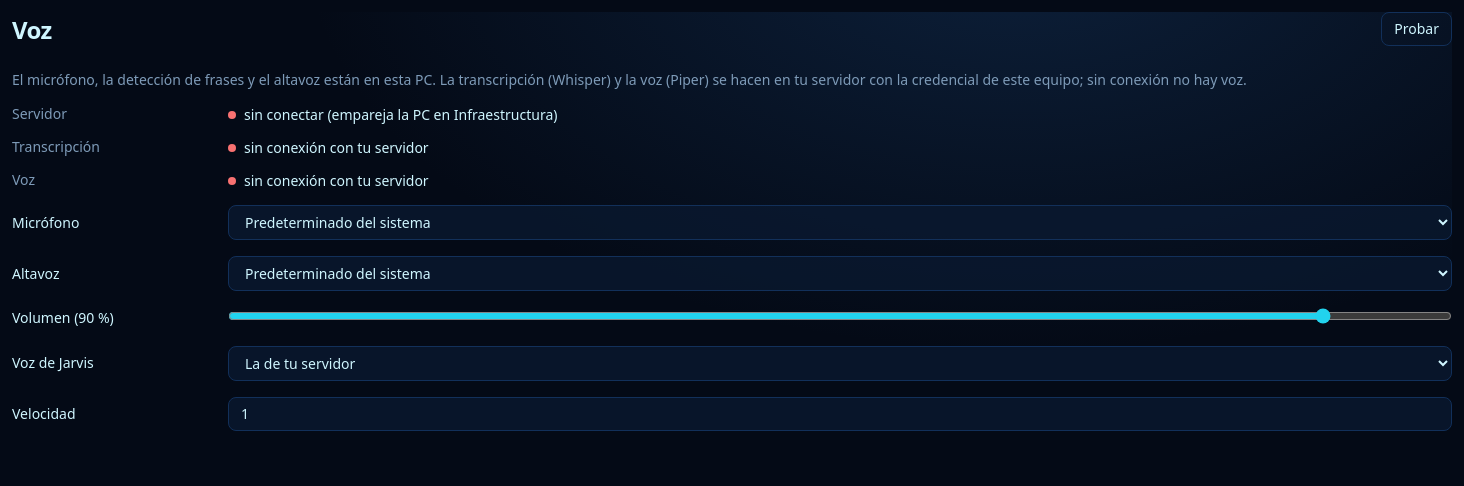
Test case: Configuración → Voz › «Probar» explica qué falla en el servidor
Expected: the text "sin conectar (empareja la PC en Infraestructura)" is shown, [228,105,558,124]
Click the button "Probar".
click(1417, 29)  # box [1381,12,1452,46]
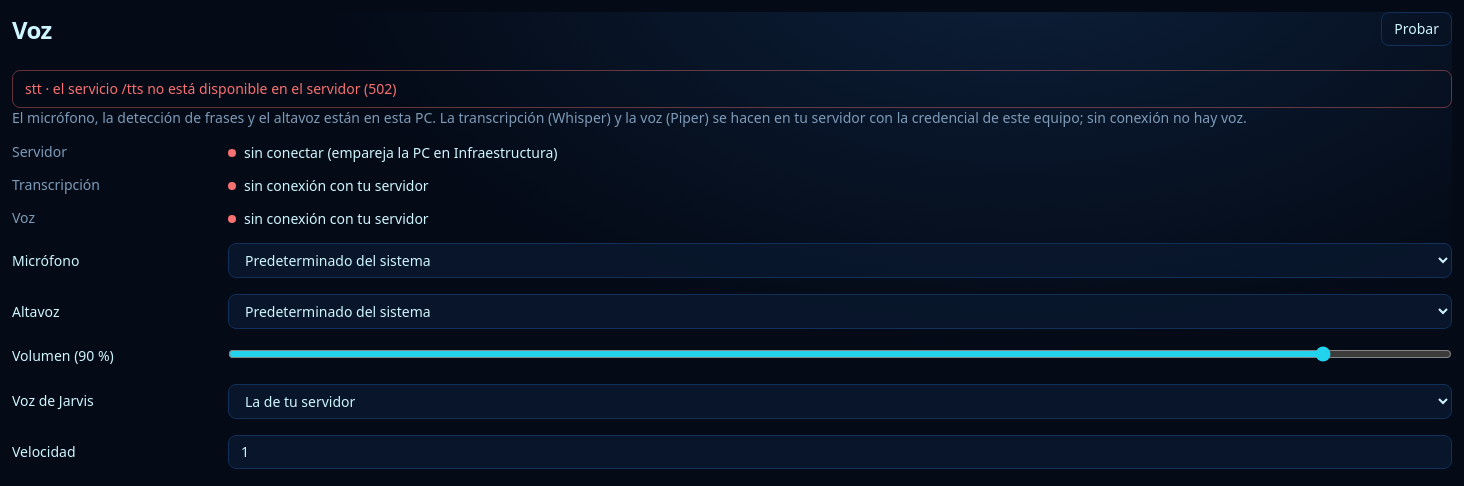
Now the text "no está disponible en el servidor" is shown, box [25,79,396,98]
